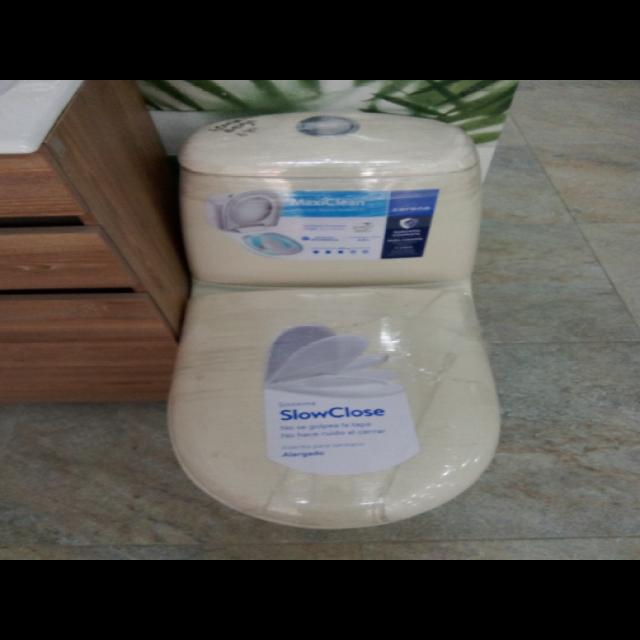toilet: (165, 110, 502, 530)
